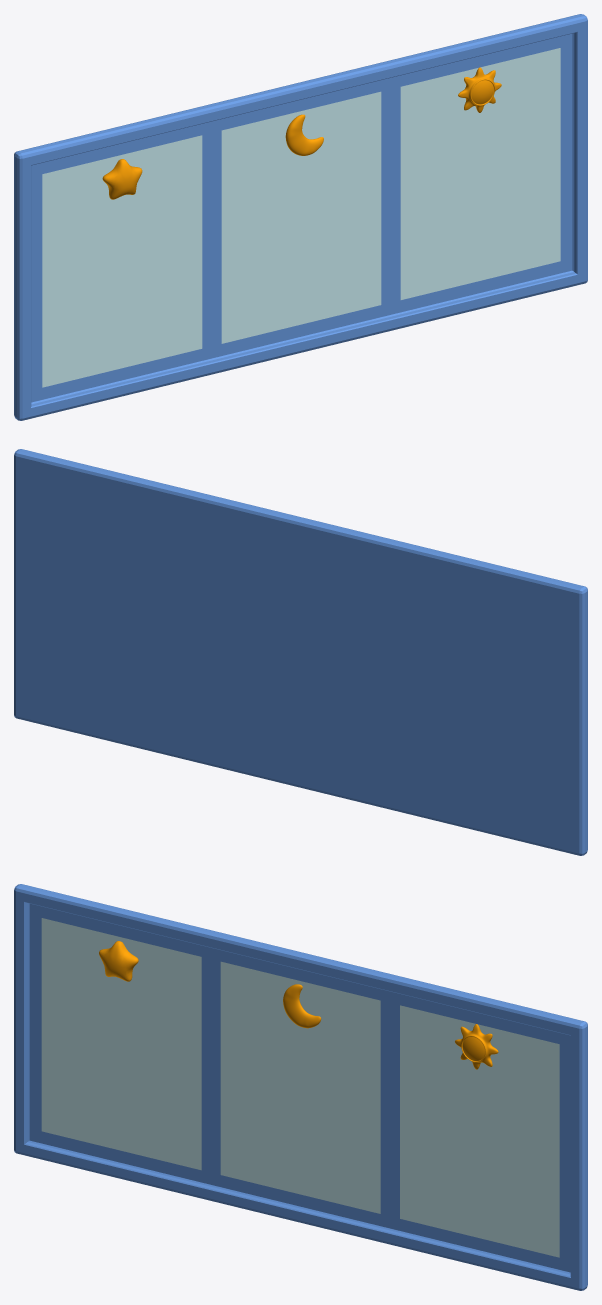
File: SELECT_.fbx
The picture shows the model from 3 angles, top to bottom: view 1: azimuth 30°, elevation 25°; view 2: azimuth 150°, elevation 25°; view 3: azimuth 330°, elevation 25°; orthographic projection.
Visible parts, largest first — view 1: Pan.001, Plane.001, Plane, Plane.002, sun, star, moon; view 2: Pan.001; view 3: Pan.001, Plane.001, Plane, Plane.002, sun, star, moon.
Boxes of the visible parts, left/top/right/bottom form: Pan.001: left=14, top=14, right=587, bottom=420; Plane.001: left=221, top=91, right=381, bottom=343; Plane: left=42, top=135, right=202, bottom=387; Plane.002: left=400, top=48, right=560, bottom=299; sun: left=458, top=67, right=501, bottom=112; star: left=102, top=159, right=142, bottom=199; moon: left=285, top=114, right=323, bottom=155; Pan.001: left=14, top=449, right=587, bottom=855; Pan.001: left=14, top=884, right=587, bottom=1290; Plane.001: left=220, top=961, right=380, bottom=1213; Plane: left=41, top=918, right=201, bottom=1170; Plane.002: left=400, top=1005, right=559, bottom=1257; sun: left=455, top=1024, right=498, bottom=1069; star: left=99, top=941, right=138, bottom=981; moon: left=283, top=984, right=321, bottom=1028.
Size of the model in its own units: 1055 by 473 by 33.64.
